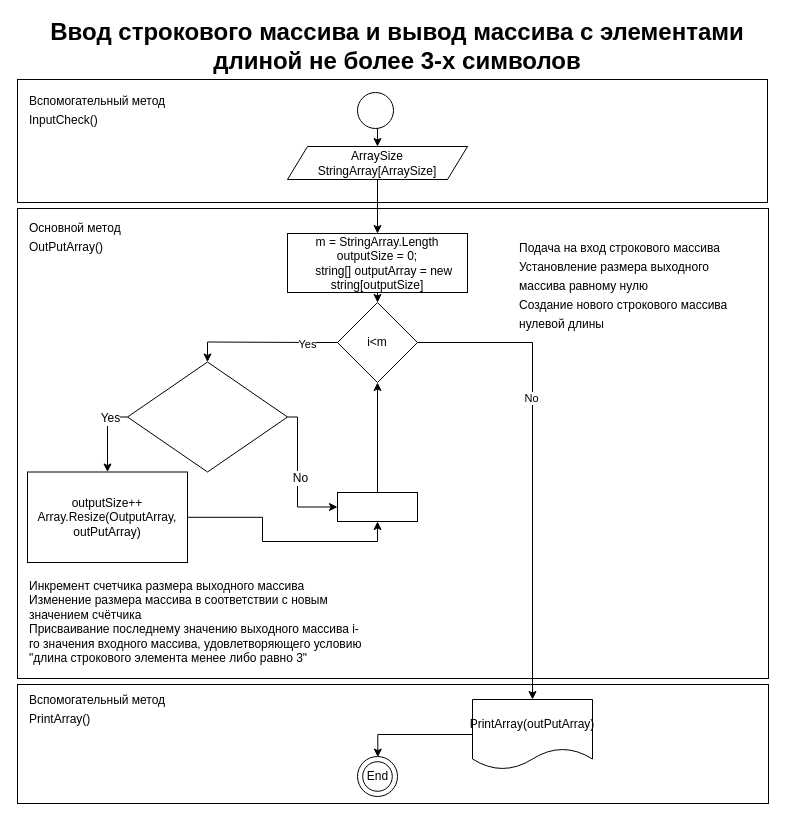
Some shapes in this 795 by 821 pixel diagram are drawn without their labels. Each missing label, with the centre of its shape:
"i++" goes at [377,507].
"Start" goes at [375,110].
"stringArray[i].Length <= 3" goes at [207,416].
